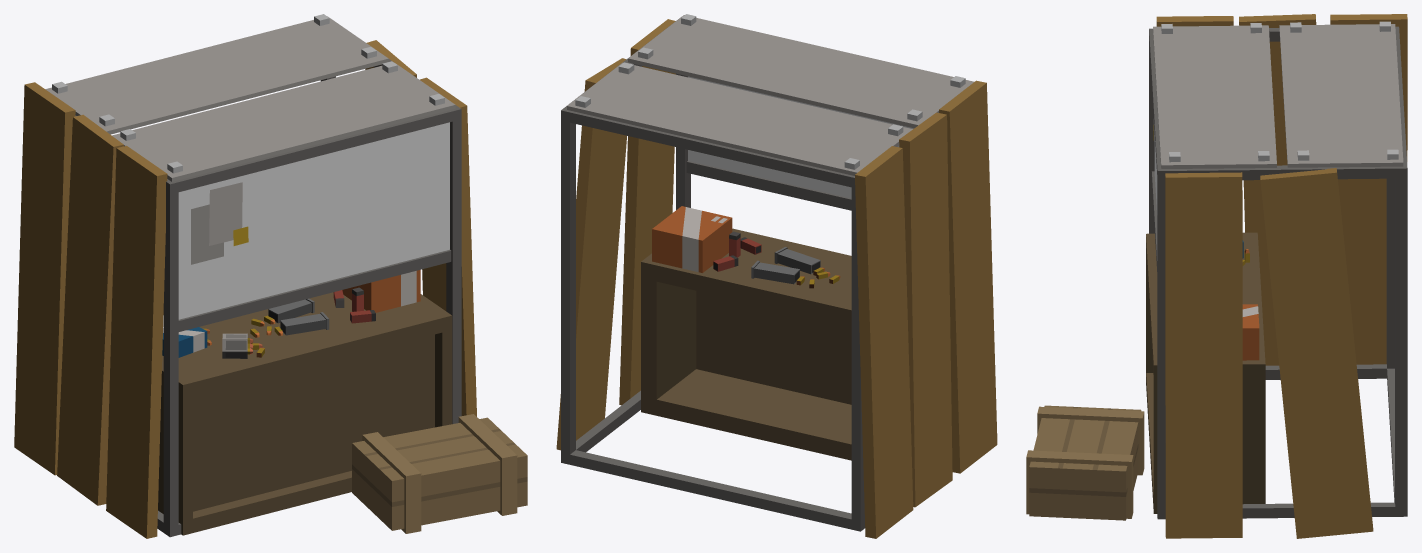
The model's file is AI_Prop_Shop_Ammo.fbx.
3 renders of one model, left to right at view 1: azimuth 30°, elevation 25°; view 2: azimuth 150°, elevation 25°; view 3: azimuth 270°, elevation 25°, orthographic.
Visible parts, largest first — view 1: AI_Prop_Shop_Ammo; view 2: AI_Prop_Shop_Ammo; view 3: AI_Prop_Shop_Ammo.
Boxes of the visible parts, box(x1,y1,x2,y2) form: AI_Prop_Shop_Ammo: box(14, 14, 527, 538); AI_Prop_Shop_Ammo: box(556, 14, 997, 538); AI_Prop_Shop_Ammo: box(1026, 14, 1407, 538).
Bounding box in the file's own units: 3.49 × 3.64 × 3.41.
